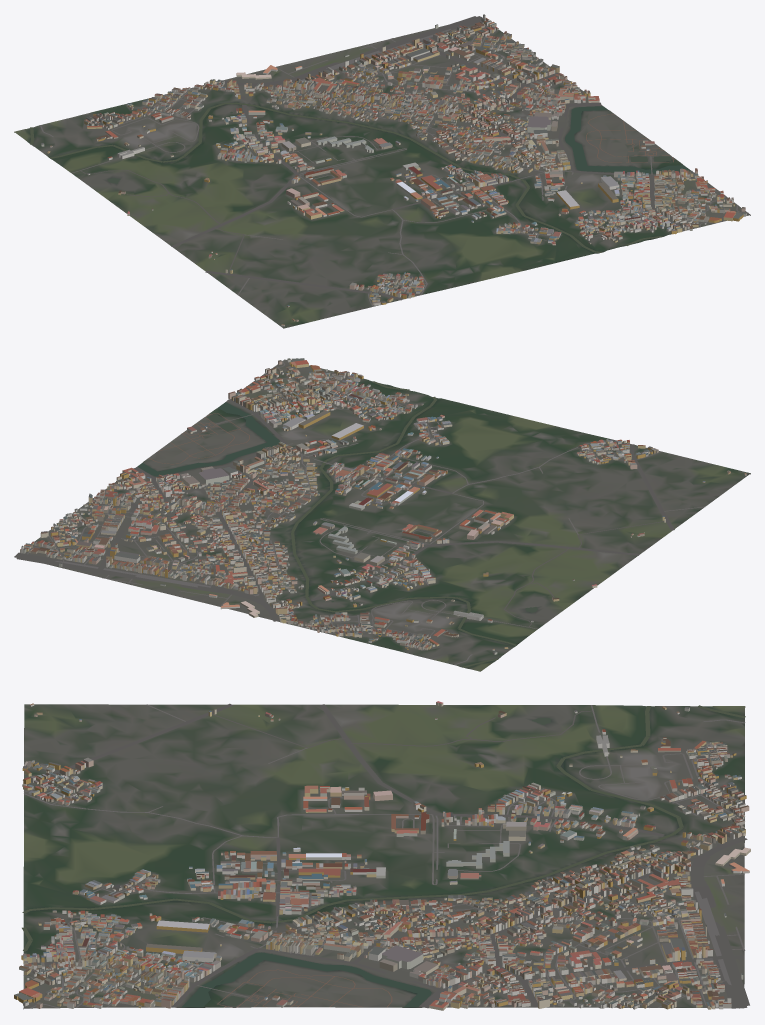
3 renders of one model, top to bottom at view 1: azimuth 30°, elevation 25°; view 2: azimuth 150°, elevation 25°; view 3: azimuth 270°, elevation 25°, orthographic. The views are drawn at different scales.
Visible parts, largest first — view 1: ground, buildings, roads, water; view 2: ground, buildings, roads, water; view 3: ground, buildings, roads, water.
Part boxes in pixels (x1,y1,x2,y2): ground: (14,24,750,328); buildings: (41,14,746,326); roads: (40,16,748,306); water: (30,102,690,252); ground: (14,359,750,671); buildings: (20,358,746,654); roads: (14,361,704,665); water: (137,381,538,667); ground: (23,704,745,1009); buildings: (14,701,750,1010); roads: (23,703,749,1008); water: (22,705,745,1007).
Size of the model in its own units: 1418 by 31.85 by 1433.
